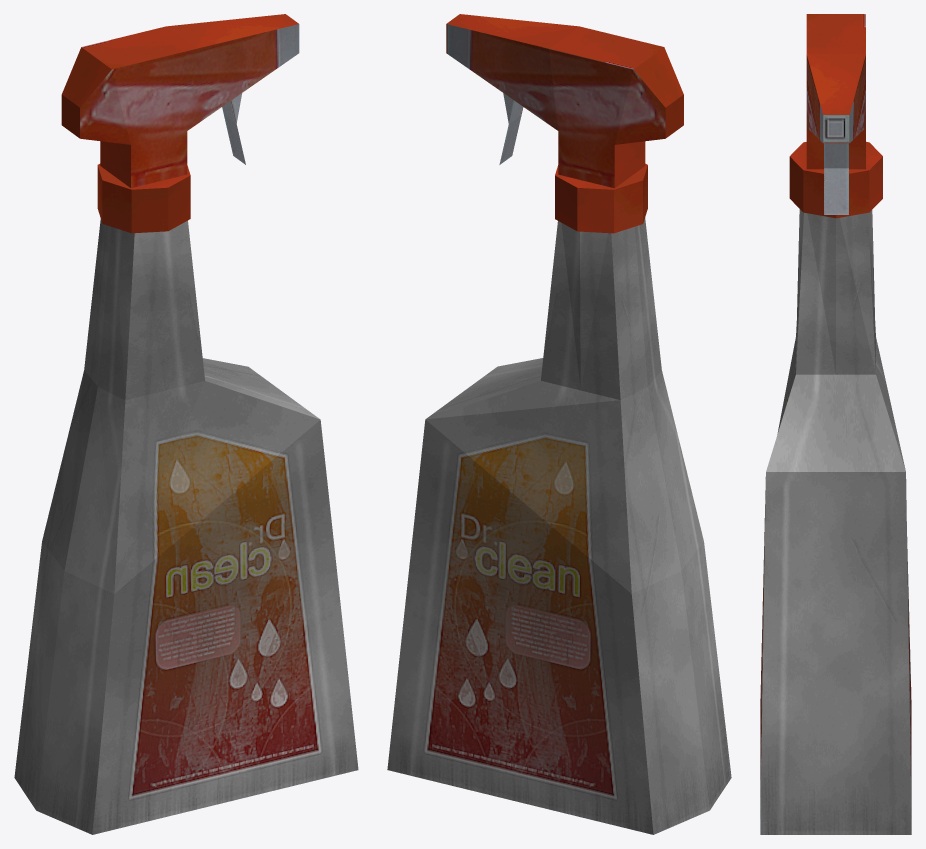
Rendered from cleaner.fbx.
The picture shows the model from 3 angles, left to right: view 1: azimuth 30°, elevation 25°; view 2: azimuth 150°, elevation 25°; view 3: azimuth 270°, elevation 25°; orthographic projection. The views are drawn at different scales.
Visible parts, largest first — view 1: cleaner_Layer1; view 2: cleaner_Layer1; view 3: cleaner_Layer1.
Boxes of the visible parts, <box> form: cleaner_Layer1: <box>14,14,358,834</box>; cleaner_Layer1: <box>387,14,731,834</box>; cleaner_Layer1: <box>760,14,911,834</box>.
Bounding box in the file's own units: 13.59 × 33.81 × 6.49.
Materials: 1 (1 with a texture image).
